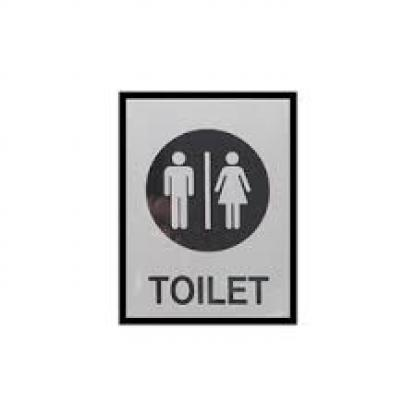toilet: (157, 144, 255, 233)
